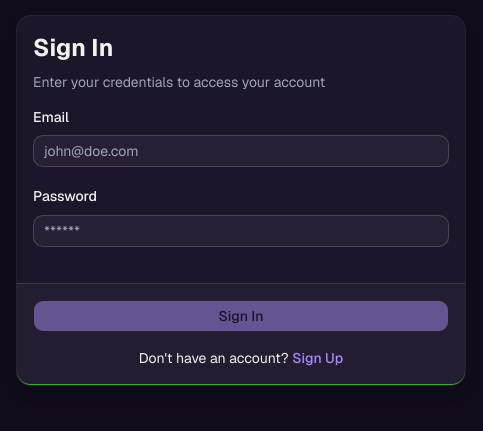
SignIn › shows a required error when the password is left empty after being touched
Click the password field labelled "Password" at (241, 230), box [33, 214, 449, 246]
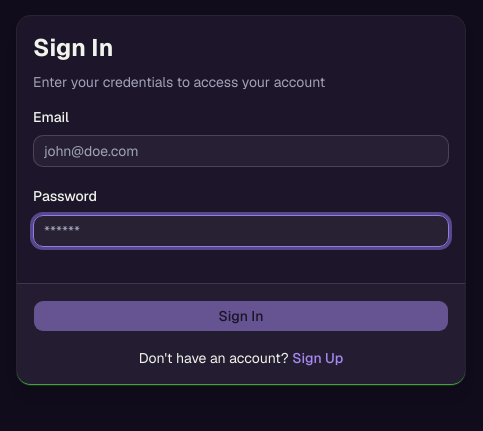
Press Tab
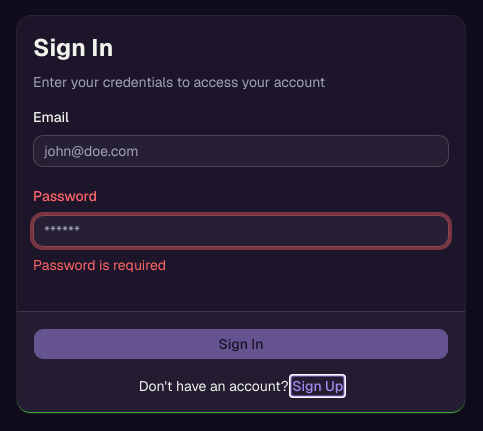
expect the text "Password is required" is shown: met, box [33, 256, 166, 274]
